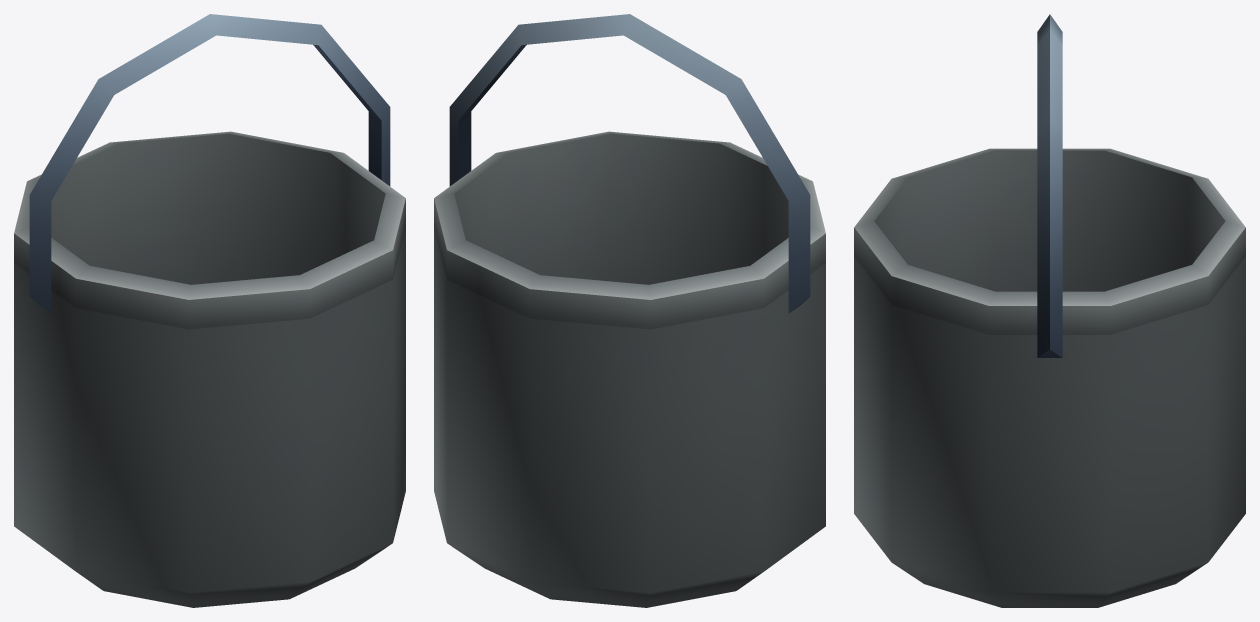
Rendered from Pot_1D.fbx.
3 renders of one model, left to right at view 1: azimuth 30°, elevation 25°; view 2: azimuth 150°, elevation 25°; view 3: azimuth 270°, elevation 25°, orthographic. The views are drawn at different scales.
Parts seen in each view (by area): view 1: Pot_1D, Pot_1D_Handle; view 2: Pot_1D, Pot_1D_Handle; view 3: Pot_1D, Pot_1D_Handle.
Boxes of the visible parts, x1,y1,x2,y2 form: Pot_1D: (14,131,405,607); Pot_1D_Handle: (29,14,390,313); Pot_1D: (434,131,825,607); Pot_1D_Handle: (449,14,810,313); Pot_1D: (854,148,1245,607); Pot_1D_Handle: (1037,14,1062,357).
Size of the model in its own units: 32.02 by 44.68 by 30.78.
